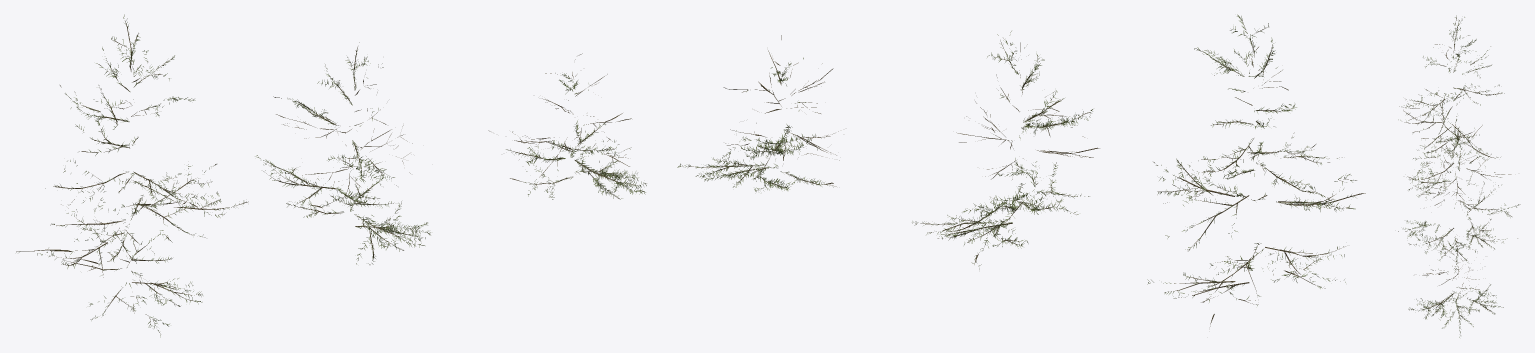
Rendered from fir.glb.
The picture shows the model from 3 angles, left to right: view 1: azimuth 30°, elevation 25°; view 2: azimuth 150°, elevation 25°; view 3: azimuth 270°, elevation 25°; orthographic projection. The views are drawn at different scales.
Parts seen in each view (by area): view 1: fir_sapling_a; view 2: fir_sapling_a; view 3: fir_sapling_a.
Part boxes in pixels (bbox=[...]): fir_sapling_a: bbox=[16, 14, 646, 337]; fir_sapling_a: bbox=[677, 14, 1365, 326]; fir_sapling_a: bbox=[1398, 15, 1520, 337].
Size of the model in its own units: 2.73 by 1.25 by 0.8097.
1 material, 1 textured.
